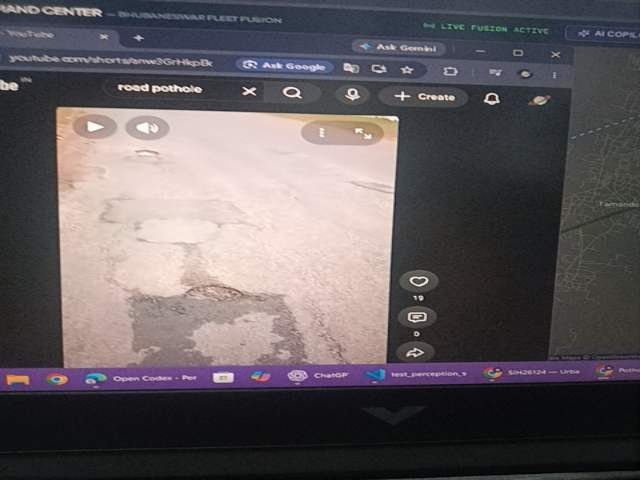pothole: (105, 404, 314, 480), (536, 403, 640, 480)
